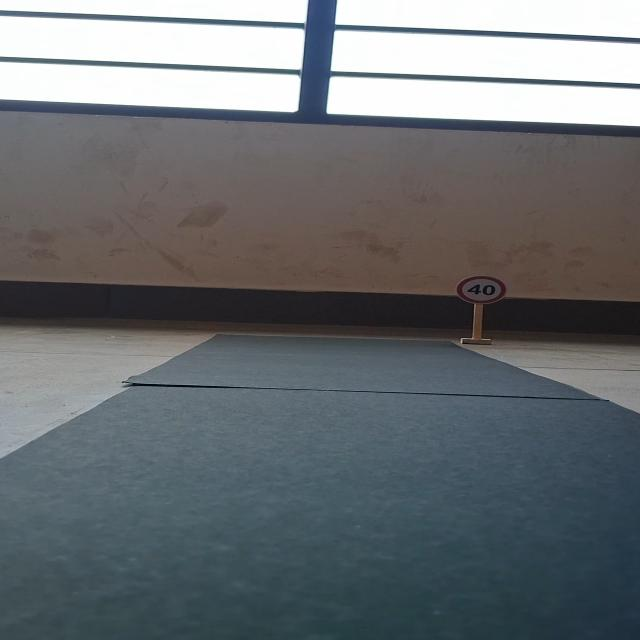Speed40: (452, 271, 510, 306)
